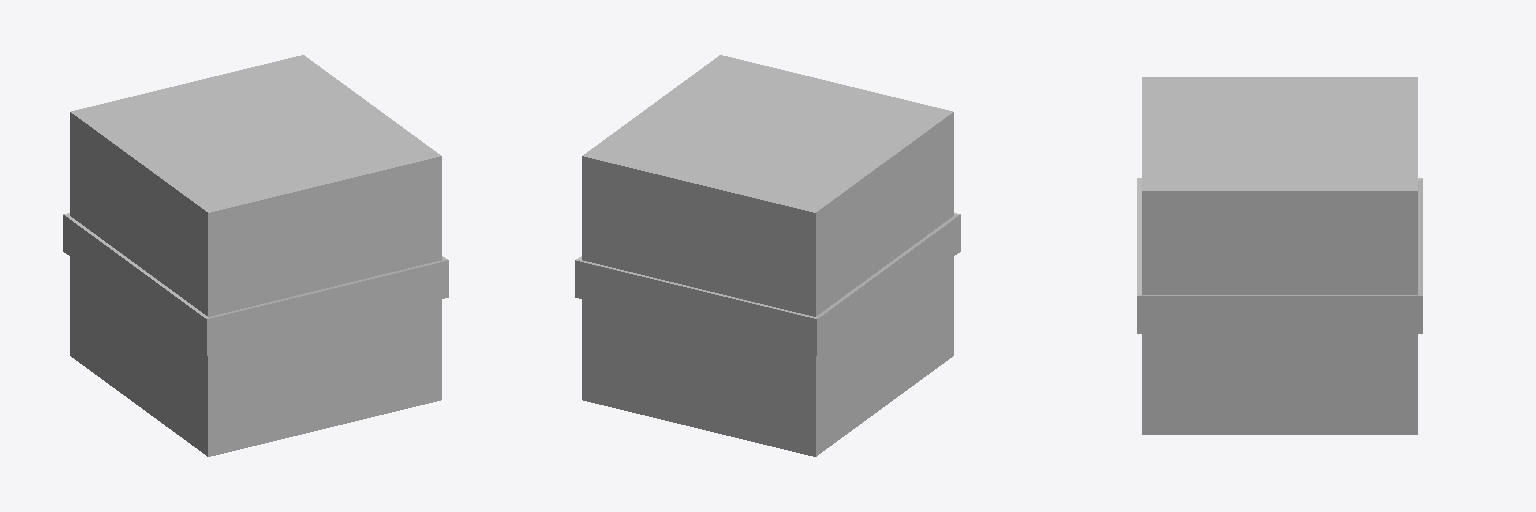
The model's file is Crate0.obj.
3 views of the same model, side by side, from view 1: azimuth 30°, elevation 25°; view 2: azimuth 150°, elevation 25°; view 3: azimuth 270°, elevation 25° (orthographic).
Visible parts, largest first — view 1: Cube.002; view 2: Cube.002; view 3: Cube.002.
Part boxes in pixels (left/top/right/bottom): Cube.002: left=63, top=55, right=448, bottom=456; Cube.002: left=575, top=55, right=960, bottom=456; Cube.002: left=1137, top=77, right=1422, bottom=434.
Bounding box in the file's own units: 0.3271 × 0.3154 × 0.3359.